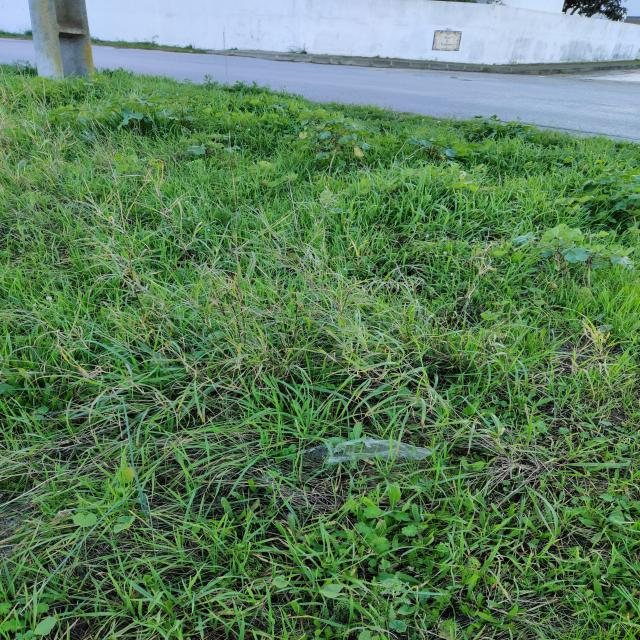litter: (297, 438, 431, 467)
